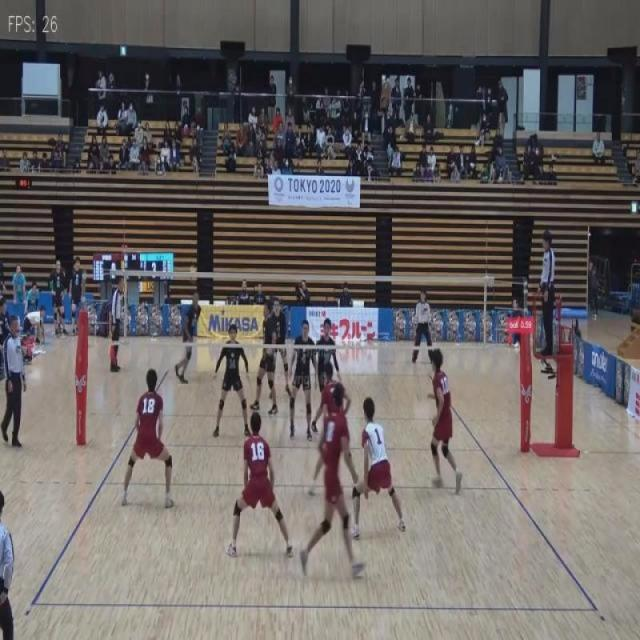volleyball: (190, 266, 198, 283)
